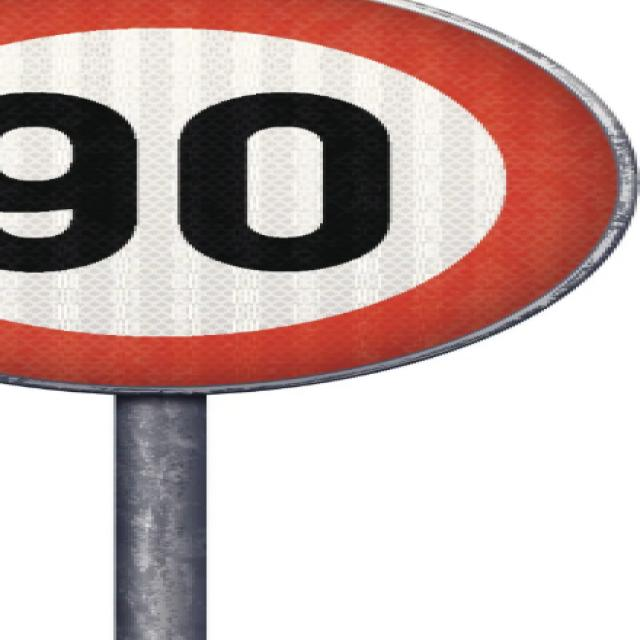Speed Limit -90-: (0, 0, 640, 400)
